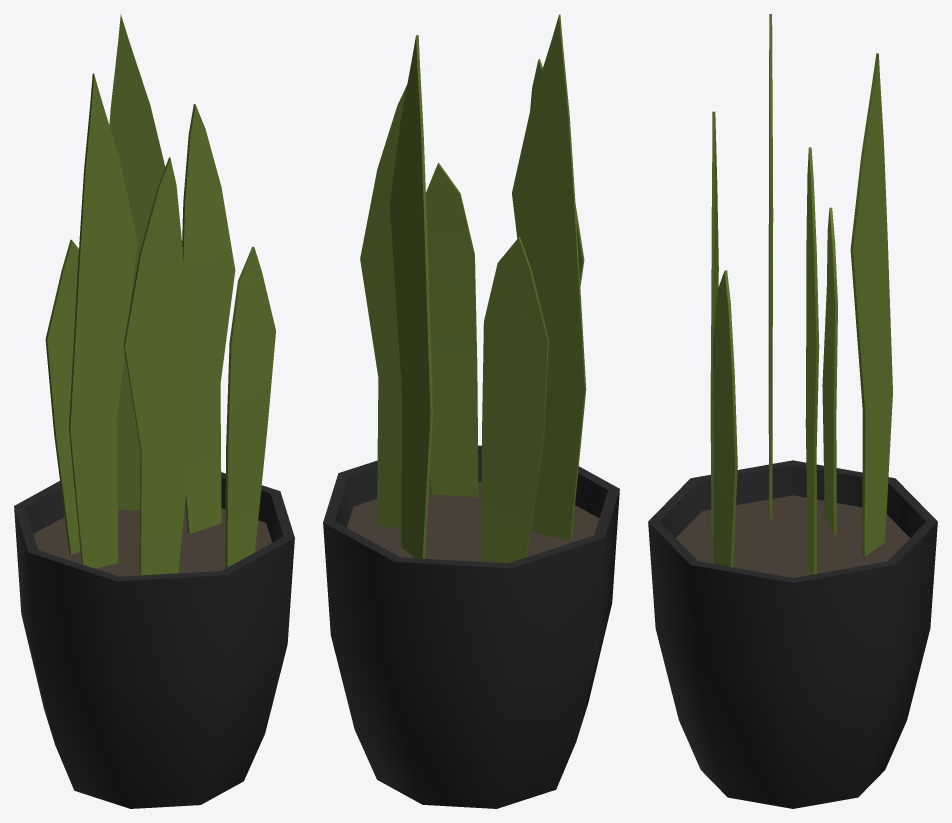
Rendered from houseplant_c.fbx.
3 renders of one model, left to right at view 1: azimuth 30°, elevation 25°; view 2: azimuth 150°, elevation 25°; view 3: azimuth 270°, elevation 25°, orthographic. The views are drawn at different scales.
Parts seen in each view (by area): view 1: Houseplant_4; view 2: Houseplant_4; view 3: Houseplant_4.
Part boxes in pixels (x1,y1,x2,y2): Houseplant_4: [14, 14, 294, 808]; Houseplant_4: [323, 14, 619, 808]; Houseplant_4: [648, 14, 937, 808].
Bounding box in the file's own units: 0.3644 × 1 × 0.3644.
